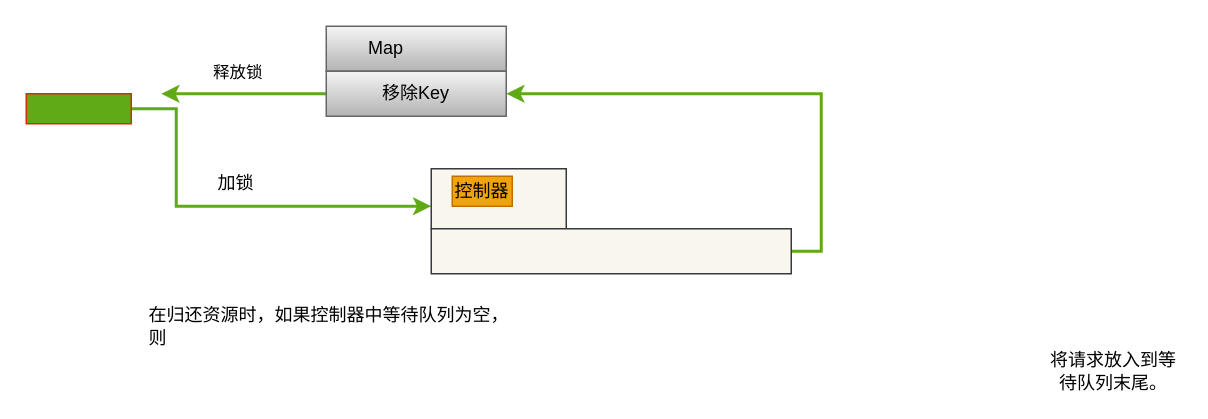
The diagram is 1208 pixels wide and 419 high, and some of its shapes have lost their labels. Here are the shapes that lost their labels. From the top down, the centre of each, then its label:
(78,108): A归还
(610,250): 等待队列为空，Map中相关的Key将被移除。
